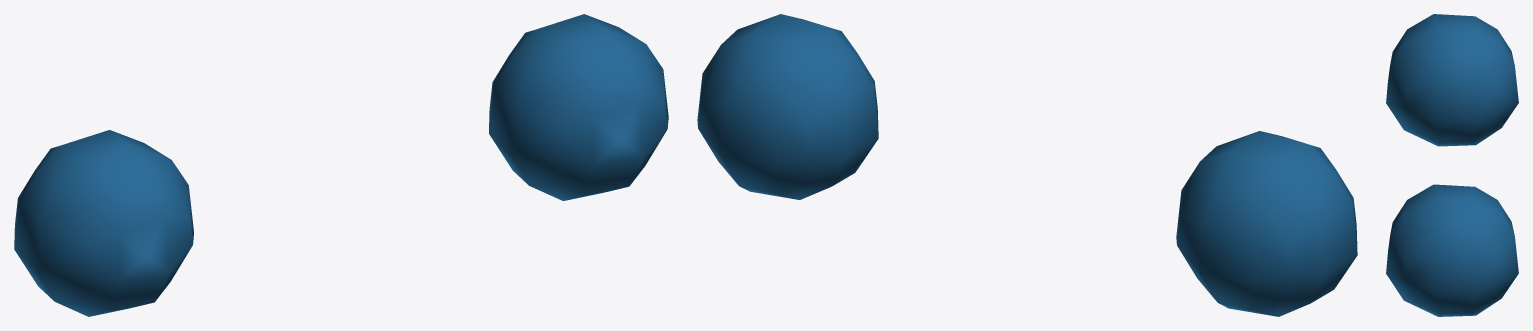
Rendered from Pupils_Blue.fbx.
The picture shows the model from 3 angles, left to right: view 1: azimuth 30°, elevation 25°; view 2: azimuth 150°, elevation 25°; view 3: azimuth 270°, elevation 25°; orthographic projection. The views are drawn at different scales.
Visible parts, largest first — view 1: Pupils_DB; view 2: Pupils_DB; view 3: Pupils_DB.
Boxes of the visible parts, left/top/right/bottom form: Pupils_DB: left=14, top=14, right=668, bottom=316; Pupils_DB: left=697, top=14, right=1357, bottom=316; Pupils_DB: left=1386, top=14, right=1518, bottom=316.
Bounding box in the file's own units: 0.208 × 0.8401 × 0.2069.
